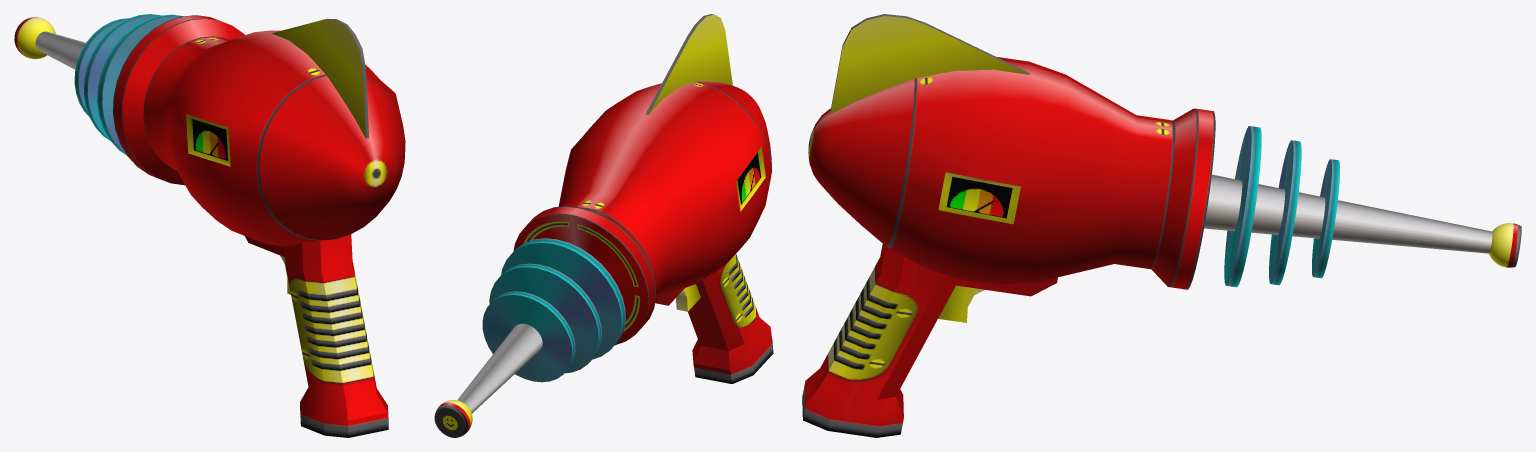
The model's file is raygun.obj.
3 renders of one model, left to right at view 1: azimuth 30°, elevation 25°; view 2: azimuth 150°, elevation 25°; view 3: azimuth 270°, elevation 25°, orthographic. The views are drawn at different scales.
Parts seen in each view (by area): view 1: Sphere.001_Sphere.002; view 2: Sphere.001_Sphere.002; view 3: Sphere.001_Sphere.002.
Boxes of the visible parts, x1,y1,x2,y2 form: Sphere.001_Sphere.002: (14,14,405,437); Sphere.001_Sphere.002: (434,14,773,437); Sphere.001_Sphere.002: (802,14,1521,437).
Bounding box in the file's own units: 0.107 × 0.22 × 0.343.
